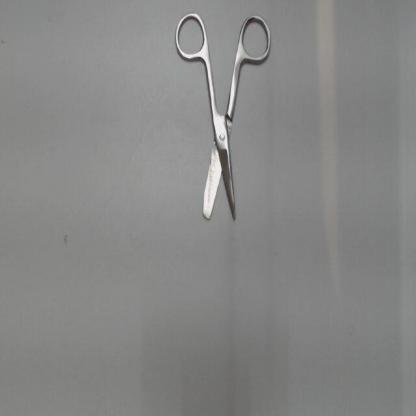Dressing Scissors: (166, 6, 279, 235)
